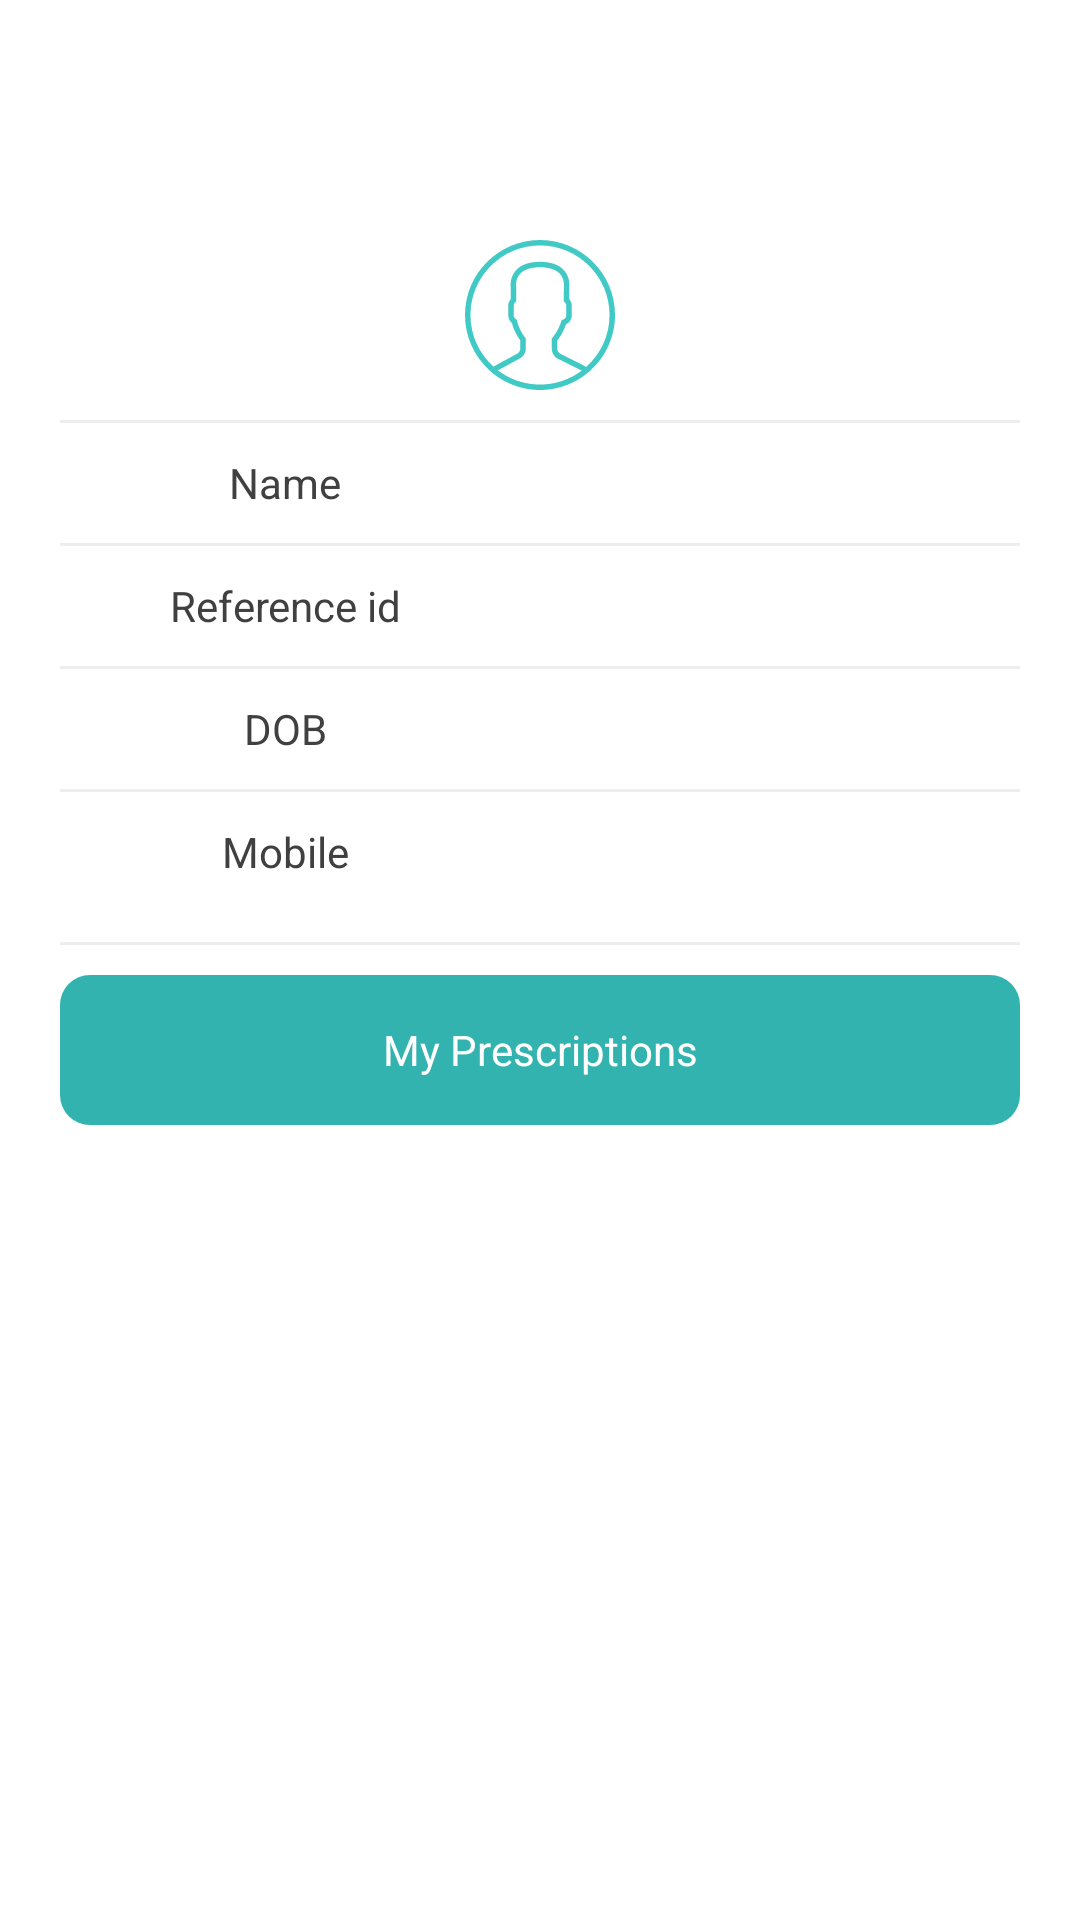

Icon bounding boxes for this 1080 × 1920 phone screenshot, format (x1, y1, x2, y2):
user: (465, 240, 615, 390)
